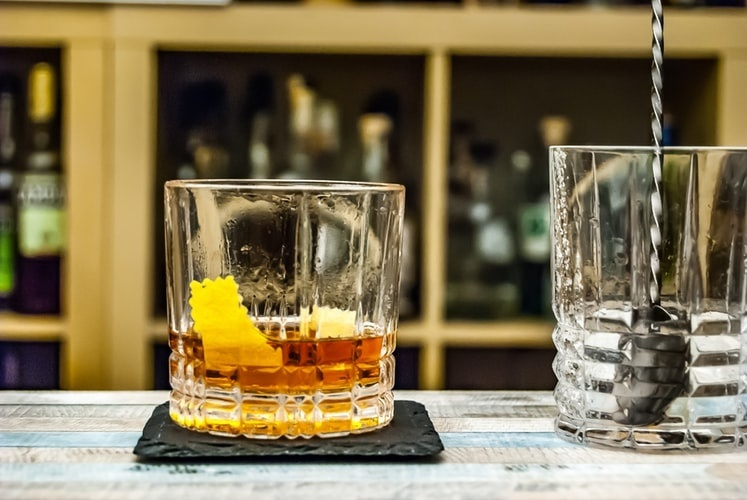whiskey: (153, 182, 396, 432)
